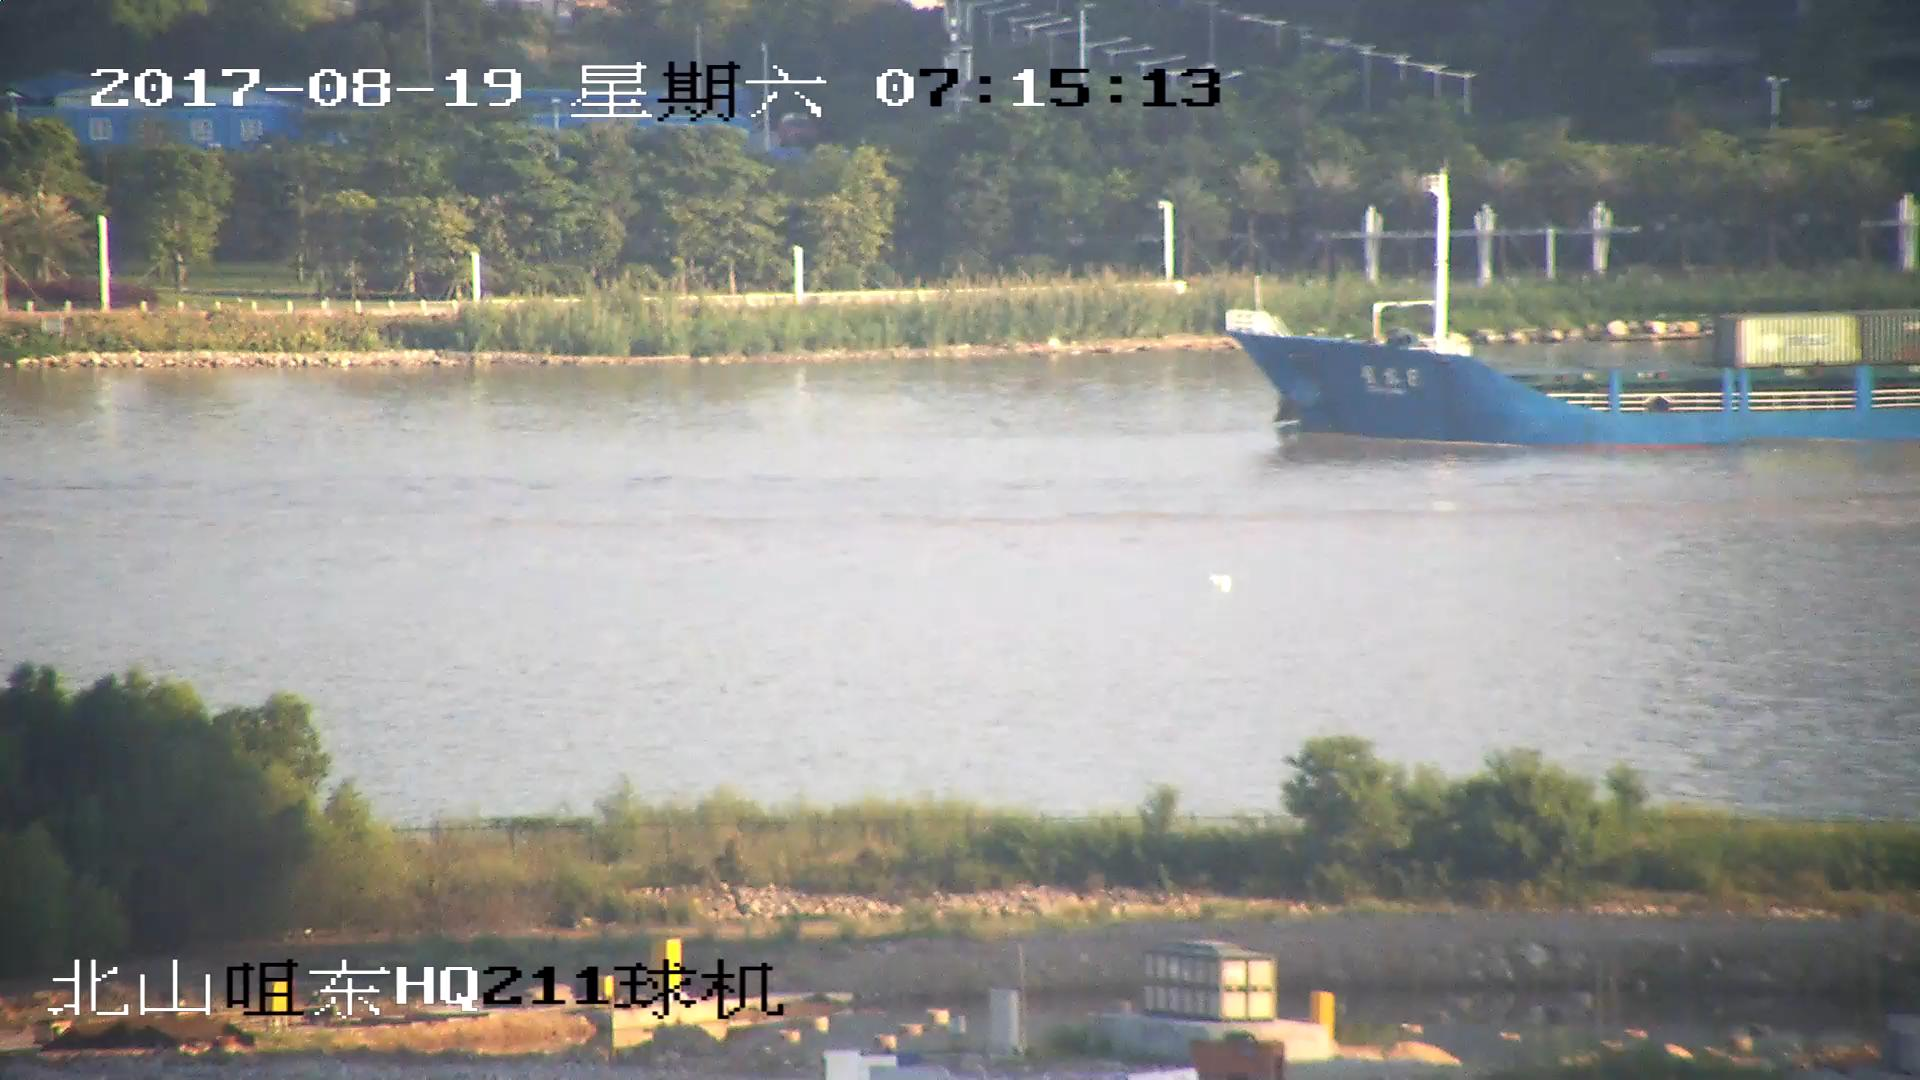general cargo ship: (1226, 178, 1920, 443)
